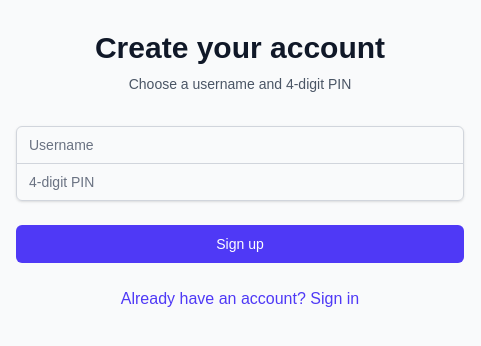
Test: SignUpPage › should display error message on API error
In the field with placeholder "Username": coordinates (240, 144) [16, 126, 464, 164], type "testuser"
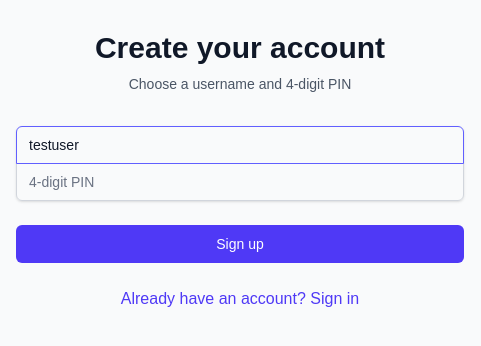
In the password field with placeholder "4-digit PIN": coordinates (240, 182) [16, 162, 464, 200], type "1234"
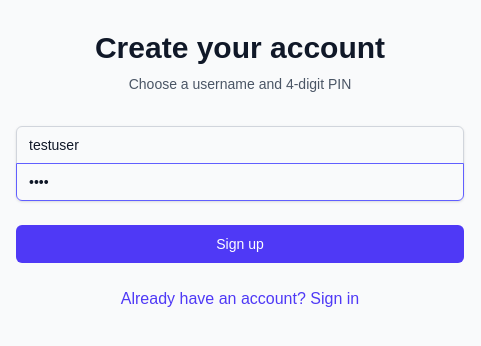
Click the button "Sign up": coordinates (240, 244) [16, 224, 464, 262]
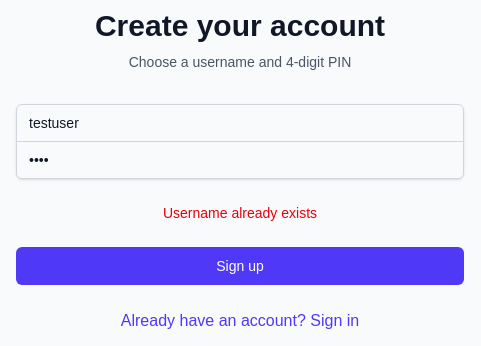
Check: the text "Username already exists" is shown, box [163, 204, 317, 220]
